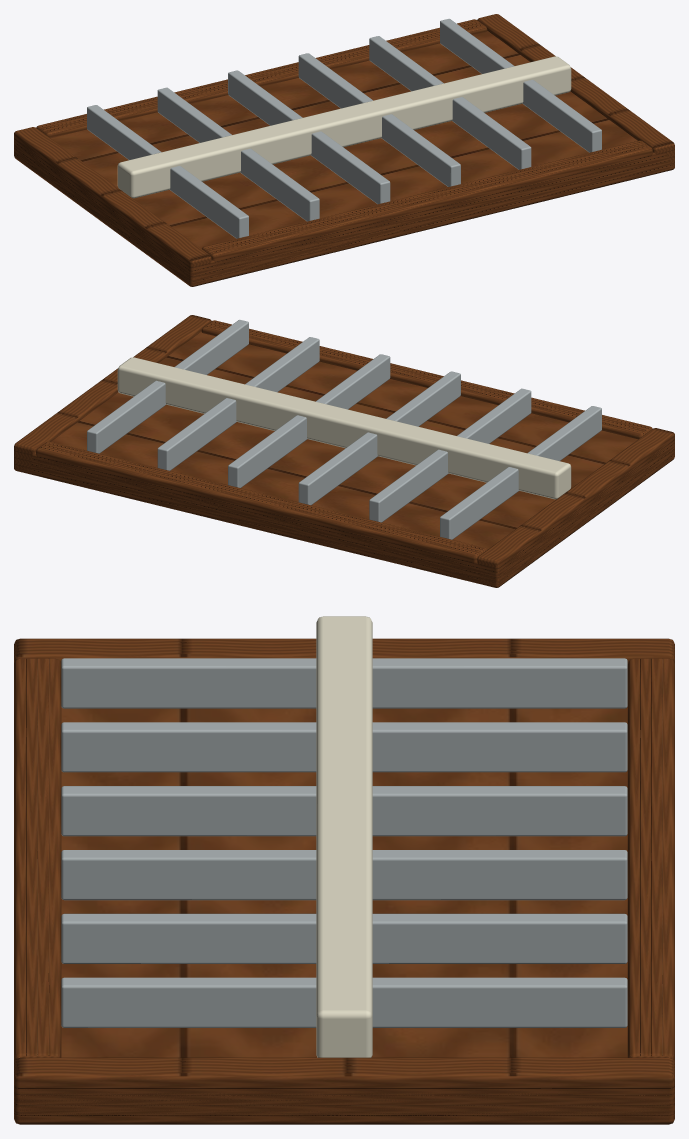
The picture shows the model from 3 angles, top to bottom: view 1: azimuth 30°, elevation 25°; view 2: azimuth 150°, elevation 25°; view 3: azimuth 270°, elevation 25°; orthographic projection. The views are drawn at different scales.
Visible parts, largest first — view 1: currency-counting-board; view 2: currency-counting-board; view 3: currency-counting-board.
Part boxes in pixels (left/top/right/bottom): currency-counting-board: left=14, top=14, right=674, bottom=286; currency-counting-board: left=14, top=315, right=674, bottom=587; currency-counting-board: left=14, top=616, right=674, bottom=1124.
Bounding box in the file's own units: 0.55 × 0.055 × 0.35.
3 materials, 1 textured.
